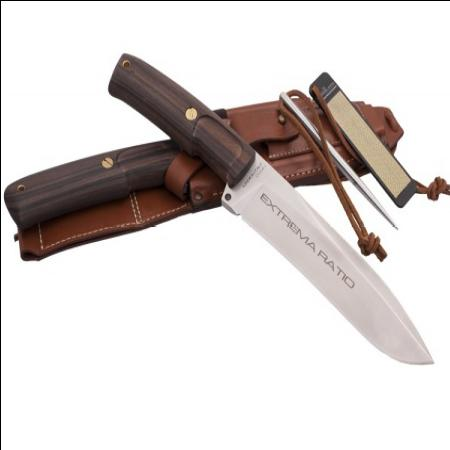long weapon: (225, 152, 437, 369)
